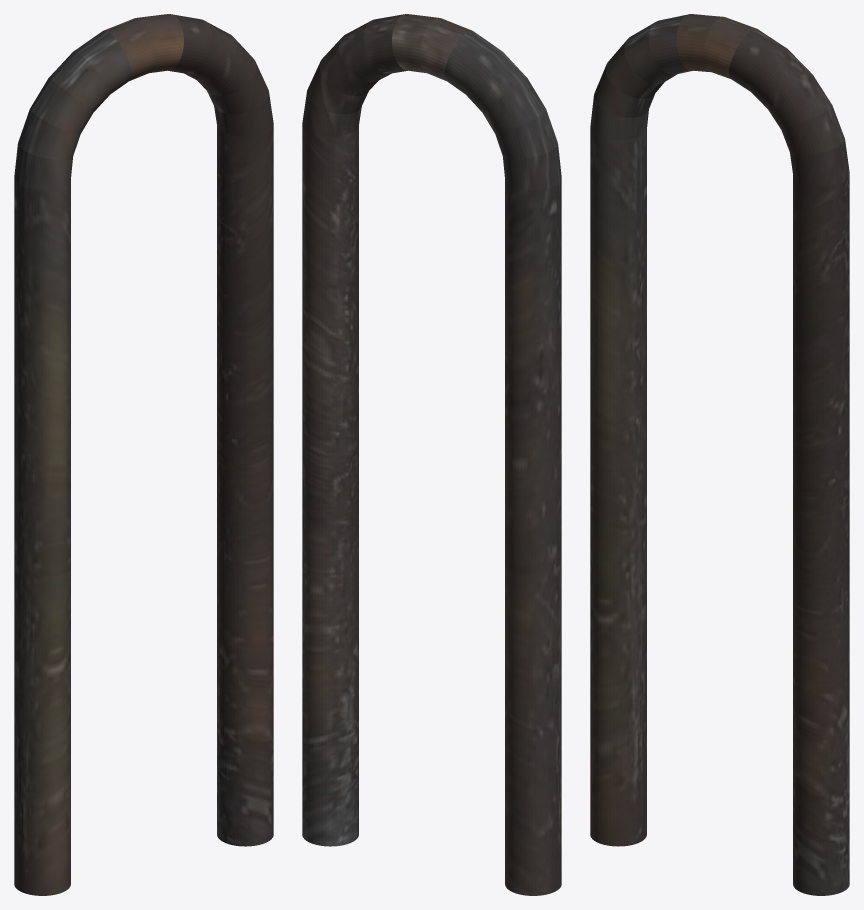
Rendered from AttacheVelos.fbx.
The picture shows the model from 3 angles, left to right: view 1: azimuth 30°, elevation 25°; view 2: azimuth 150°, elevation 25°; view 3: azimuth 330°, elevation 25°; orthographic projection.
Parts seen in each view (by area): view 1: Attache1; view 2: Attache1; view 3: Attache1.
Boxes of the visible parts, box(x1,y1,x2,y2) form: Attache1: box(14, 14, 273, 895); Attache1: box(302, 14, 561, 895); Attache1: box(590, 14, 849, 895).
Bounding box in the file's own units: 0.3454 × 0.0674 × 1.1.
1 material, 1 textured.
